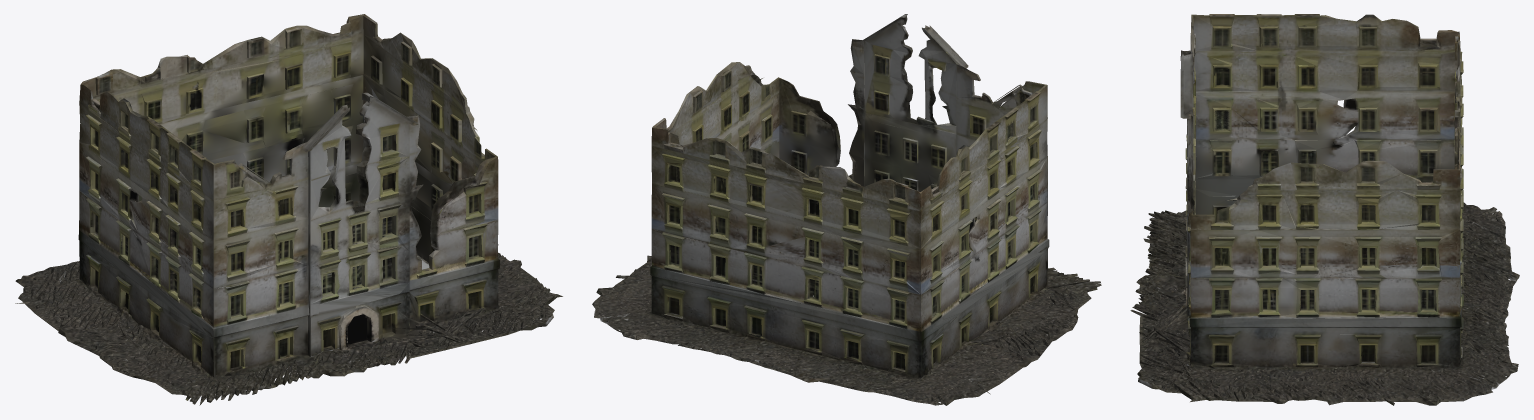
3 views of the same model, side by side, from view 1: azimuth 30°, elevation 25°; view 2: azimuth 150°, elevation 25°; view 3: azimuth 270°, elevation 25° (orthographic). The views are drawn at different scales.
Parts seen in each view (by area): view 1: node_0.027; view 2: node_0.027; view 3: node_0.027.
Part boxes in pixels (x1,y1,x2,y2): node_0.027: (15, 14, 562, 405); node_0.027: (592, 14, 1101, 405); node_0.027: (1130, 14, 1519, 405).
Bounding box in the file's own units: 4.18 × 2.36 × 3.31.
Materials: 1 (1 with a texture image).
